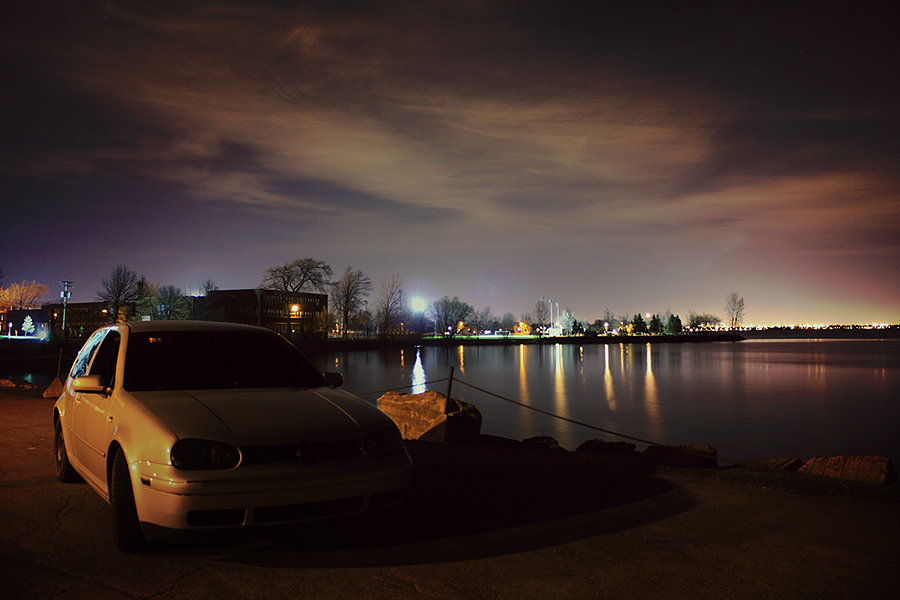car: (44, 313, 423, 560)
